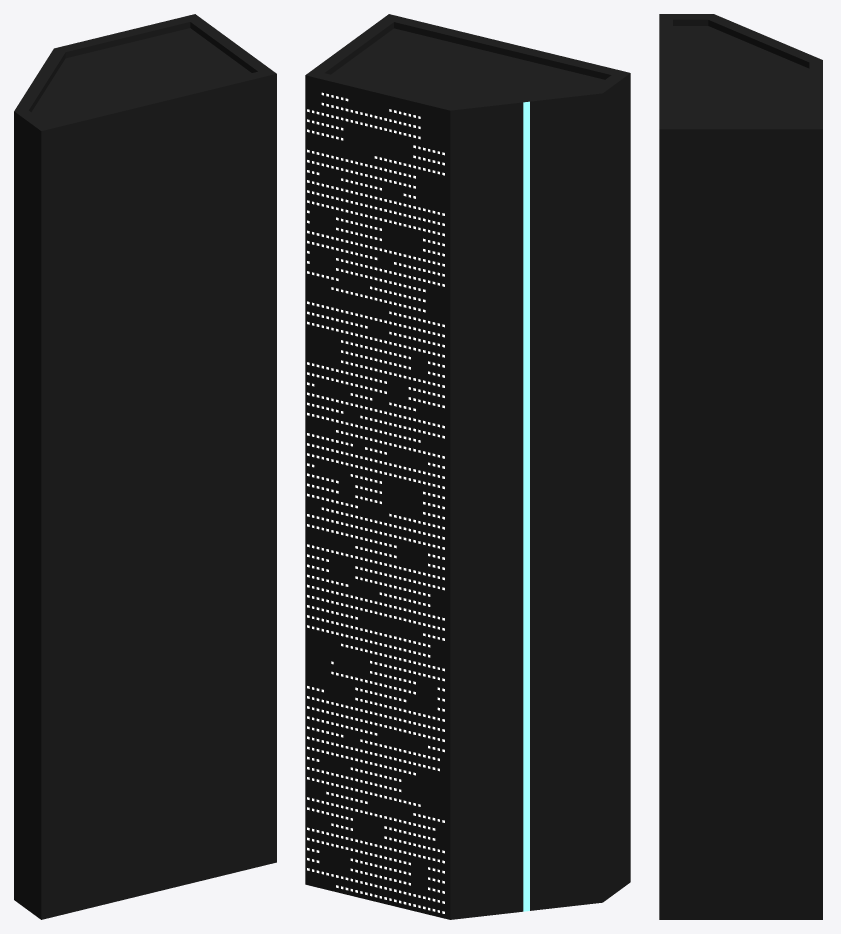
File: building_4.gltf
3 renders of one model, left to right at view 1: azimuth 30°, elevation 25°; view 2: azimuth 150°, elevation 25°; view 3: azimuth 270°, elevation 25°, orthographic. The views are drawn at different scales.
Parts seen in each view (by area): view 1: Cube.005; view 2: Cube.005, Plane.010; view 3: Cube.005.
Part boxes in pixels (box(x1,y1,x2,y2)): Cube.005: box(14, 14, 276, 919); Cube.005: box(305, 14, 630, 919); Plane.010: box(307, 92, 444, 913); Cube.005: box(659, 14, 822, 919).
Size of the model in its own units: 100 by 320 by 61.34.
